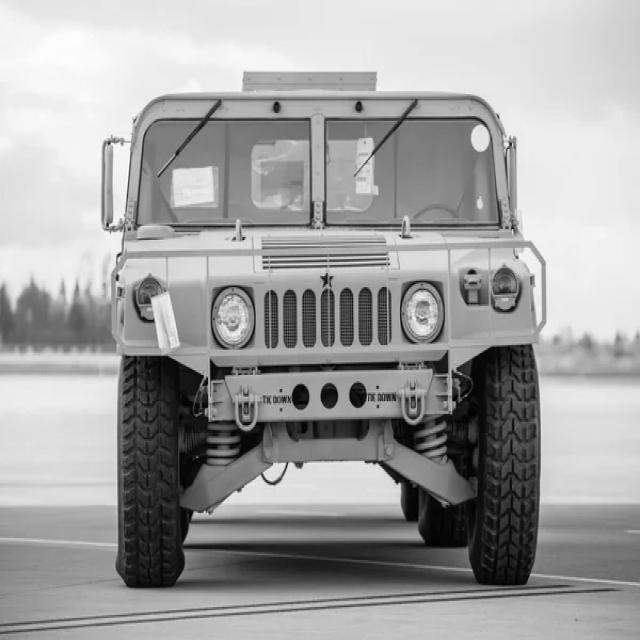Car: (100, 72, 547, 588)
